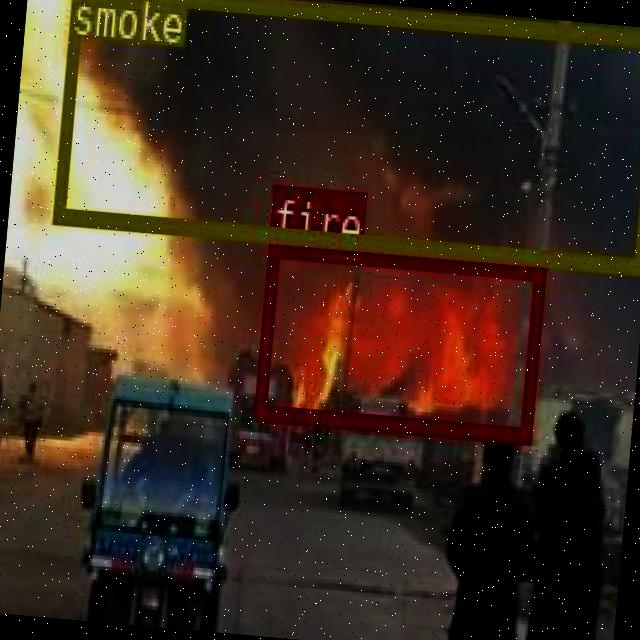fire: (252, 240, 544, 438)
smoke: (50, 0, 640, 269)
